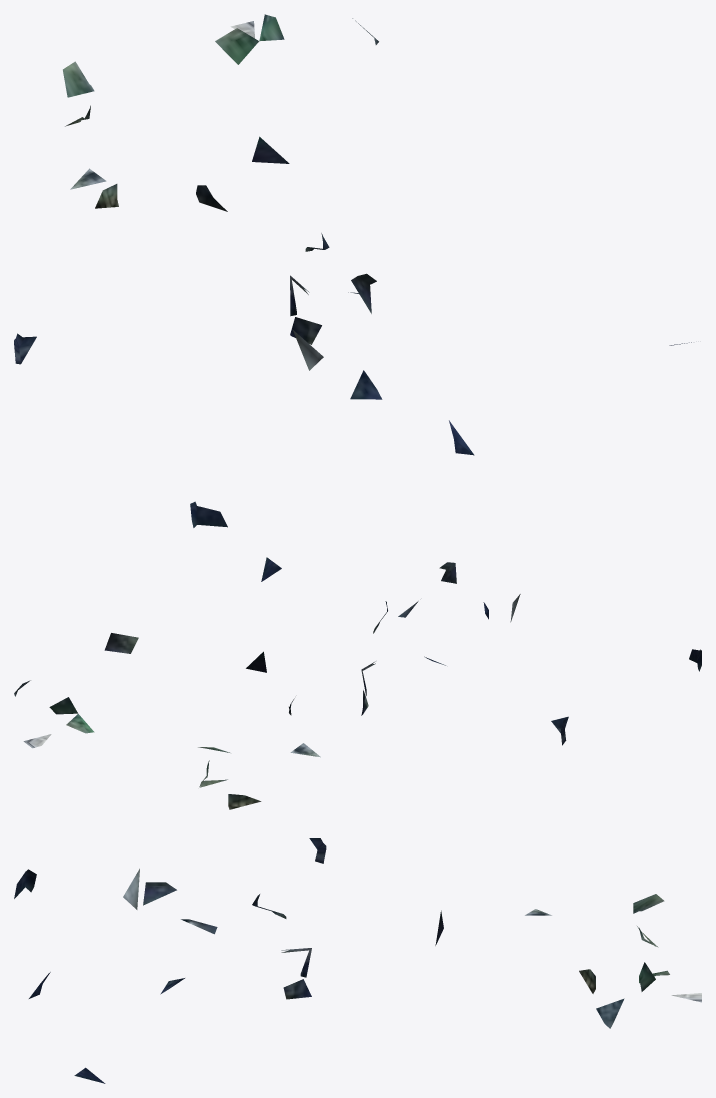
3 views of the same model, one above another, from view 1: azimuth 30°, elevation 25°; view 2: azimuth 150°, elevation 25°; view 3: azimuth 270°, elevation 25° (orthographic). The views are drawn at different scales.
Parts seen in each view (by area): view 1: 30436272704361535703_1; view 2: 30436272704361535703_1; view 3: 30436272704361535703_1.
Boxes of the visible parts, x1=… form: 30436272704361535703_1: x1=14, y1=14, x2=691, y2=527; 30436272704361535703_1: x1=14, y1=557, x2=701, y2=809; 30436272704361535703_1: x1=14, y1=838, x2=701, y2=1083.
Size of the model in its own units: 27.31 by 6.48 by 37.03.
Materials: 1 (1 with a texture image).
